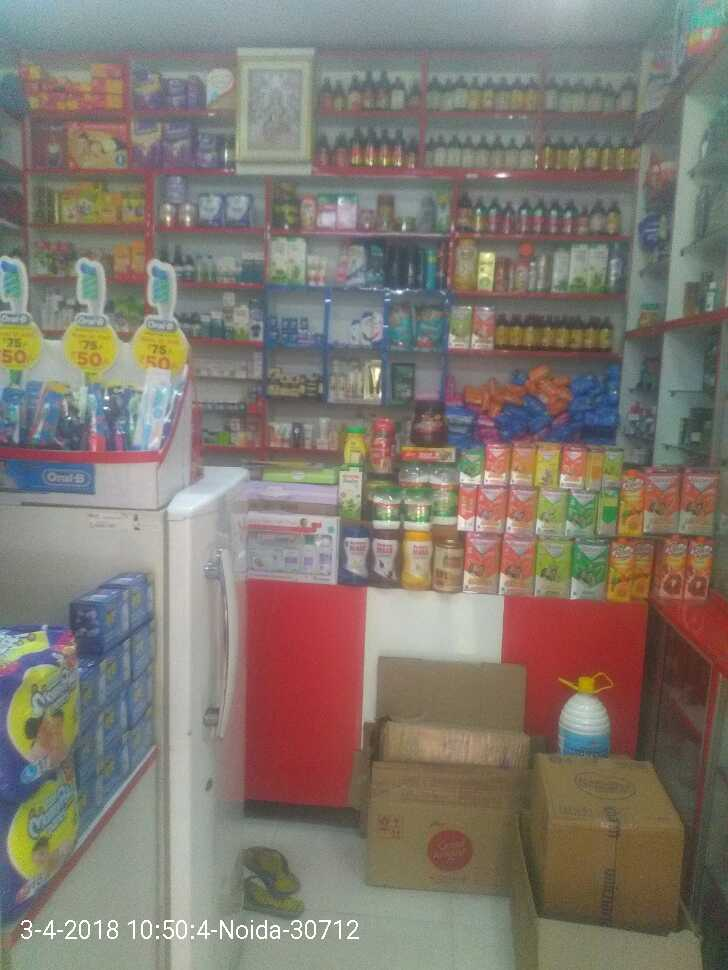oralcare: (1, 365, 180, 491)
vicks: (263, 307, 332, 343)
